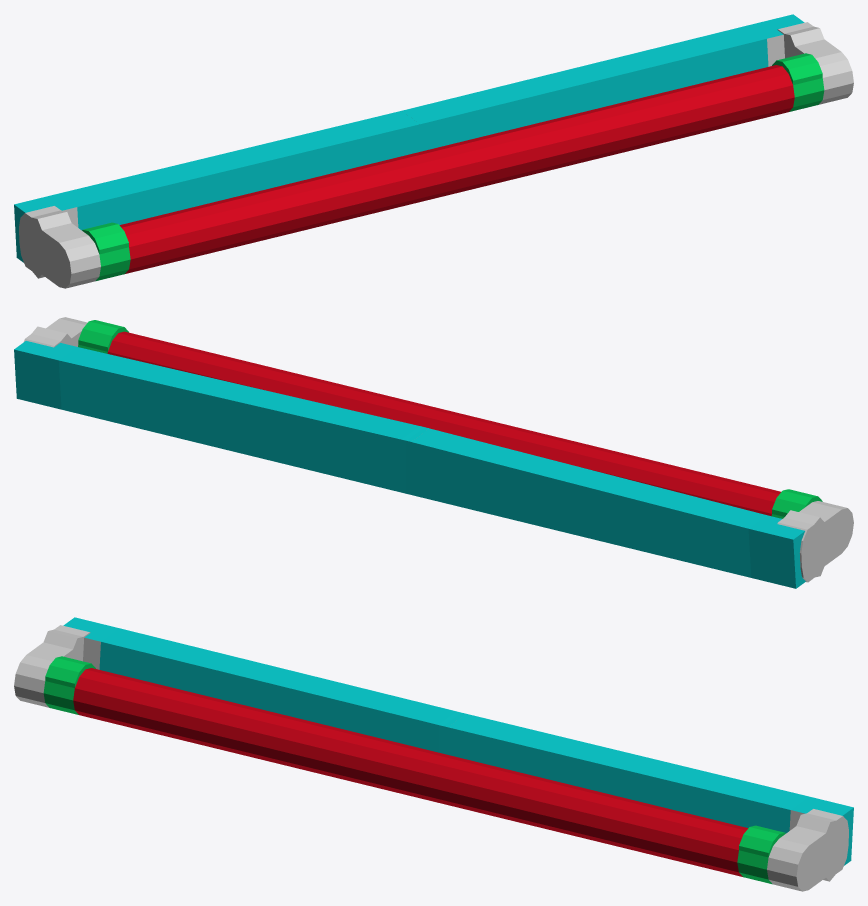
Rendered from Lamp.fbx.
The picture shows the model from 3 angles, top to bottom: view 1: azimuth 30°, elevation 25°; view 2: azimuth 150°, elevation 25°; view 3: azimuth 330°, elevation 25°; orthographic projection.
Visible parts, largest first — view 1: Цилиндр; view 2: Цилиндр; view 3: Цилиндр.
Boxes of the visible parts, box(x1,y1,x2,y2) form: Цилиндр: box(14, 14, 853, 288); Цилиндр: box(14, 317, 853, 588); Цилиндр: box(14, 617, 853, 891).
Size of the model in its own units: 185 by 13.37 by 24.18.
